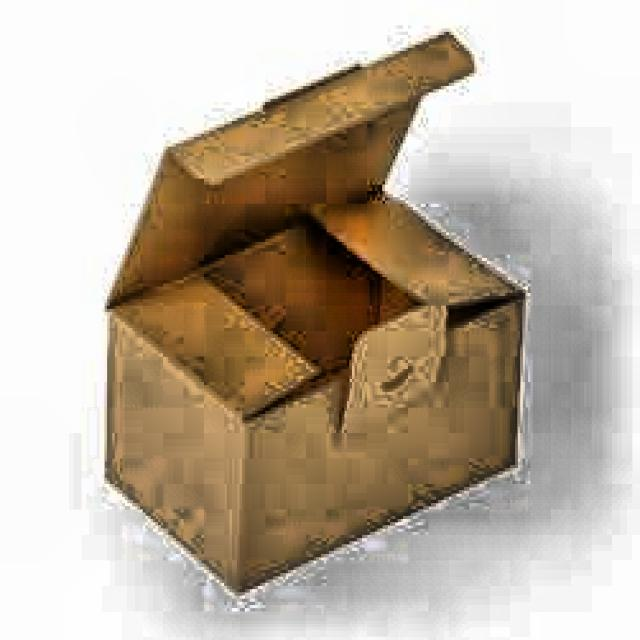Cardbox: (64, 26, 548, 604)
